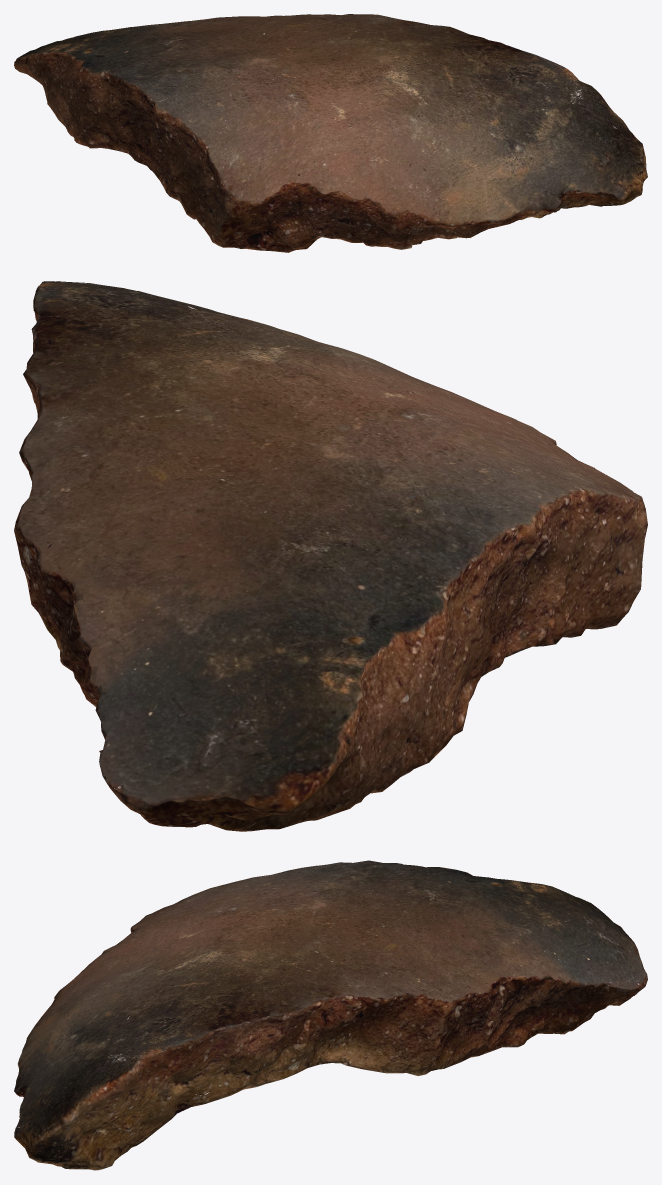
The model's file is piece7_10000_resHi.glb.
3 renders of one model, top to bottom at view 1: azimuth 30°, elevation 25°; view 2: azimuth 150°, elevation 25°; view 3: azimuth 270°, elevation 25°, orthographic. The views are drawn at different scales.
Size of the model in its own units: 0.1089 by 0.0343 by 0.1361.
Materials: 1 (1 with a texture image).
